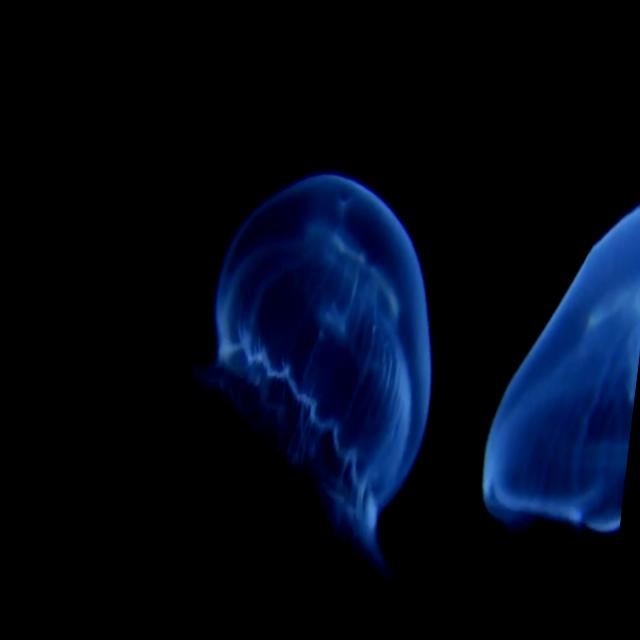Moon-jellyfish: (168, 167, 434, 595), (480, 204, 640, 536)
